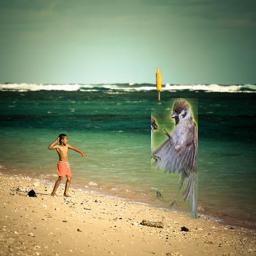Sparrow: (151, 98, 198, 219)
